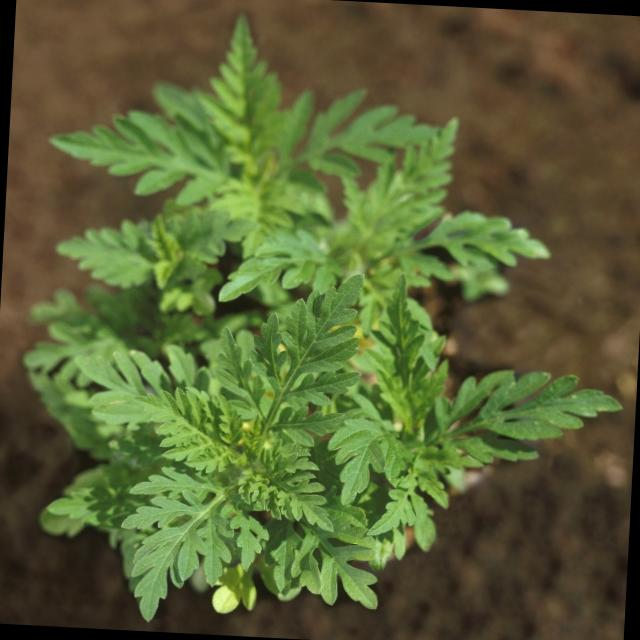ambrosia: (88, 282, 522, 616)
